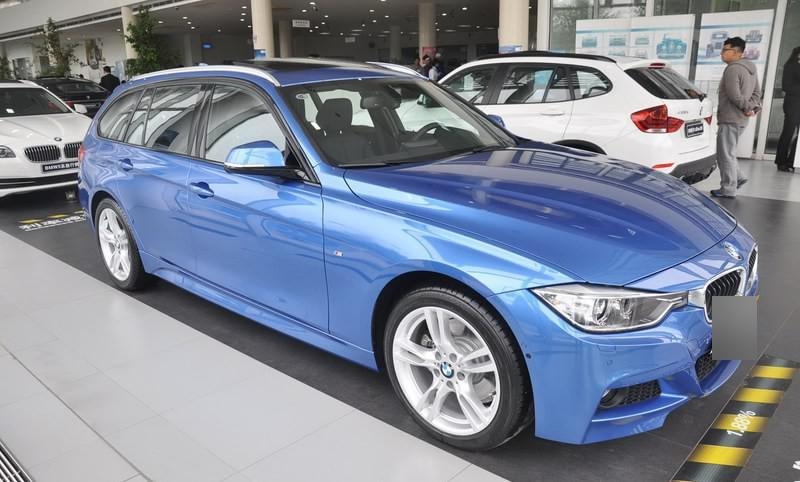Wagon: (76, 58, 761, 453)
